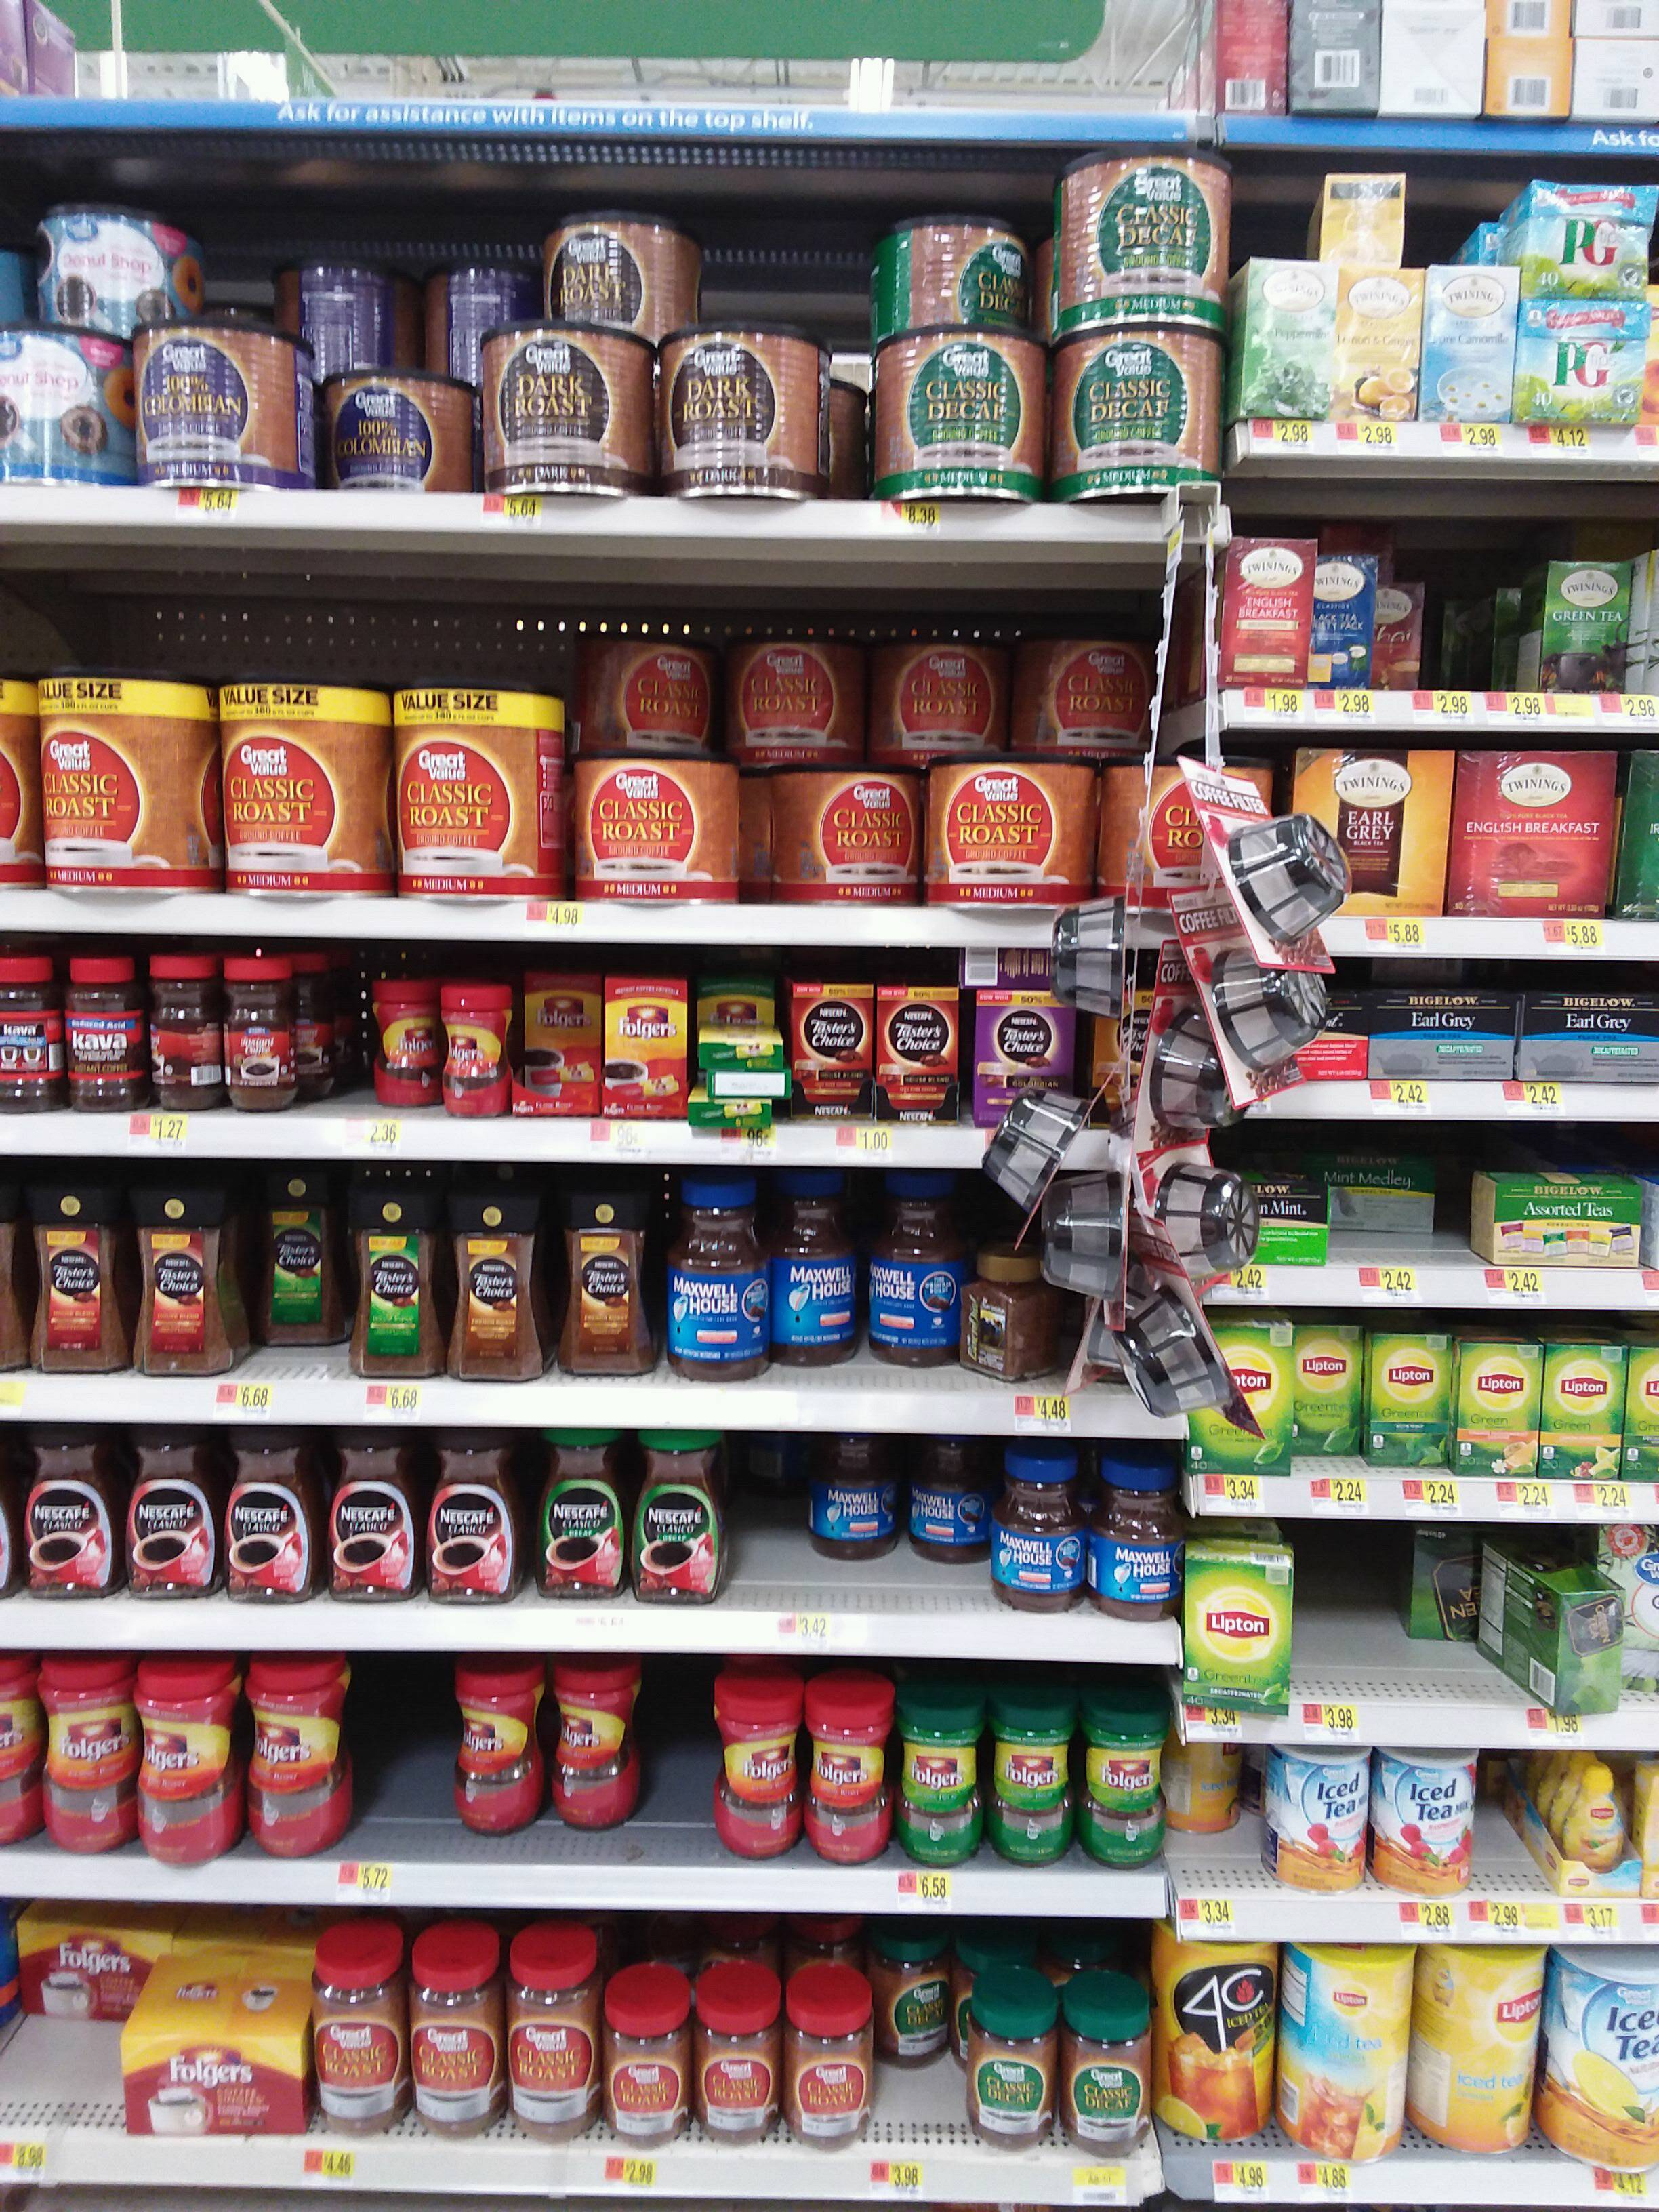Misplacement: (805, 1433, 992, 1611)
Out-of-stock: (1293, 1521, 1410, 1743)
